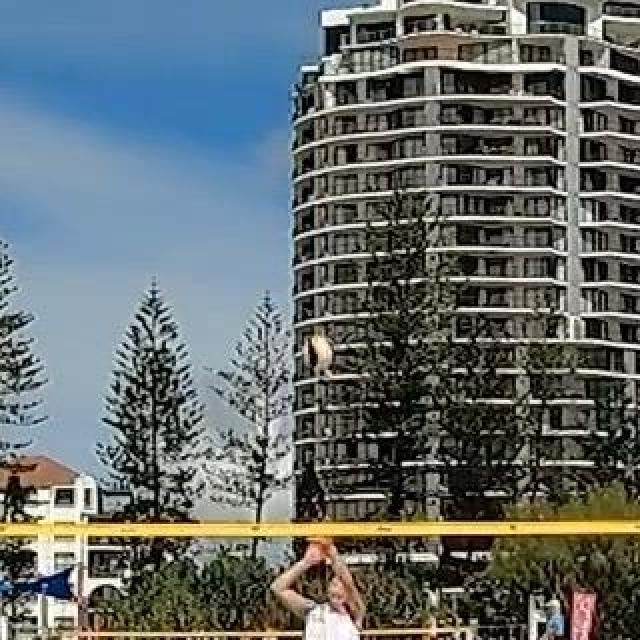volleyball: (302, 335, 334, 369)
